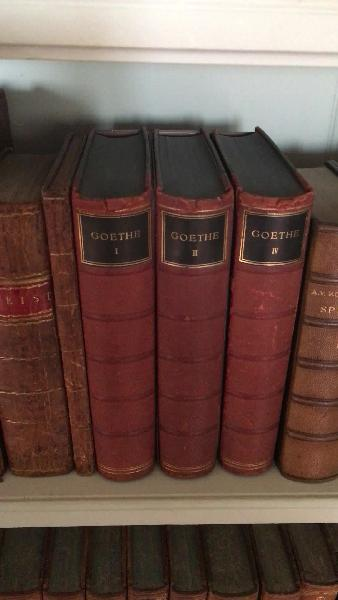Aa6-10: (36, 187, 98, 478)
Aa6-11_13: (69, 193, 308, 488)
Aa6-9: (2, 200, 72, 484)
